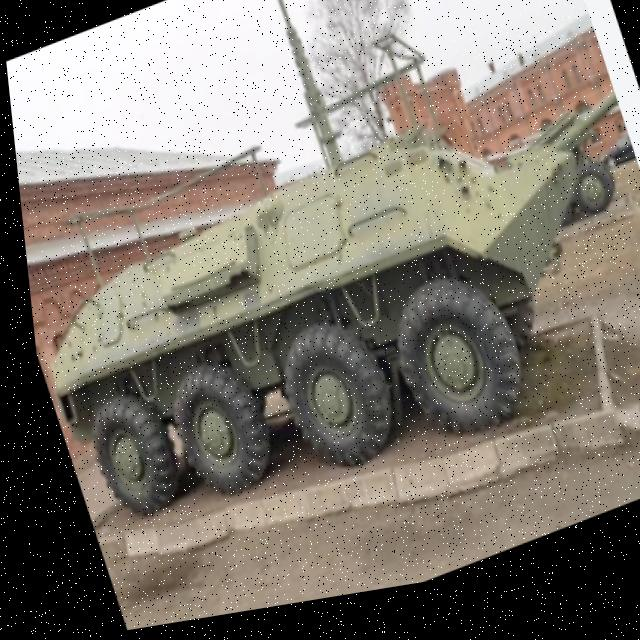MIL_APC: (13, 84, 640, 592)
